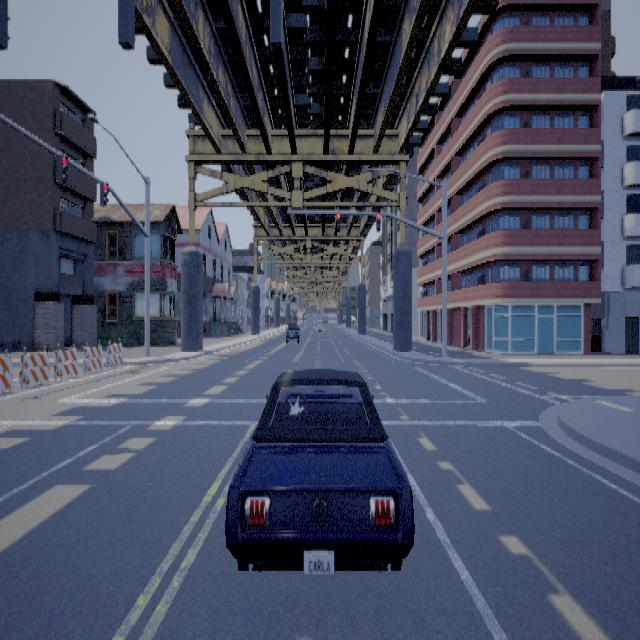red_light: (57, 154, 67, 186), (99, 180, 108, 206), (375, 210, 380, 230), (336, 210, 339, 230)
vehicle: (224, 367, 414, 573), (281, 318, 302, 346)
